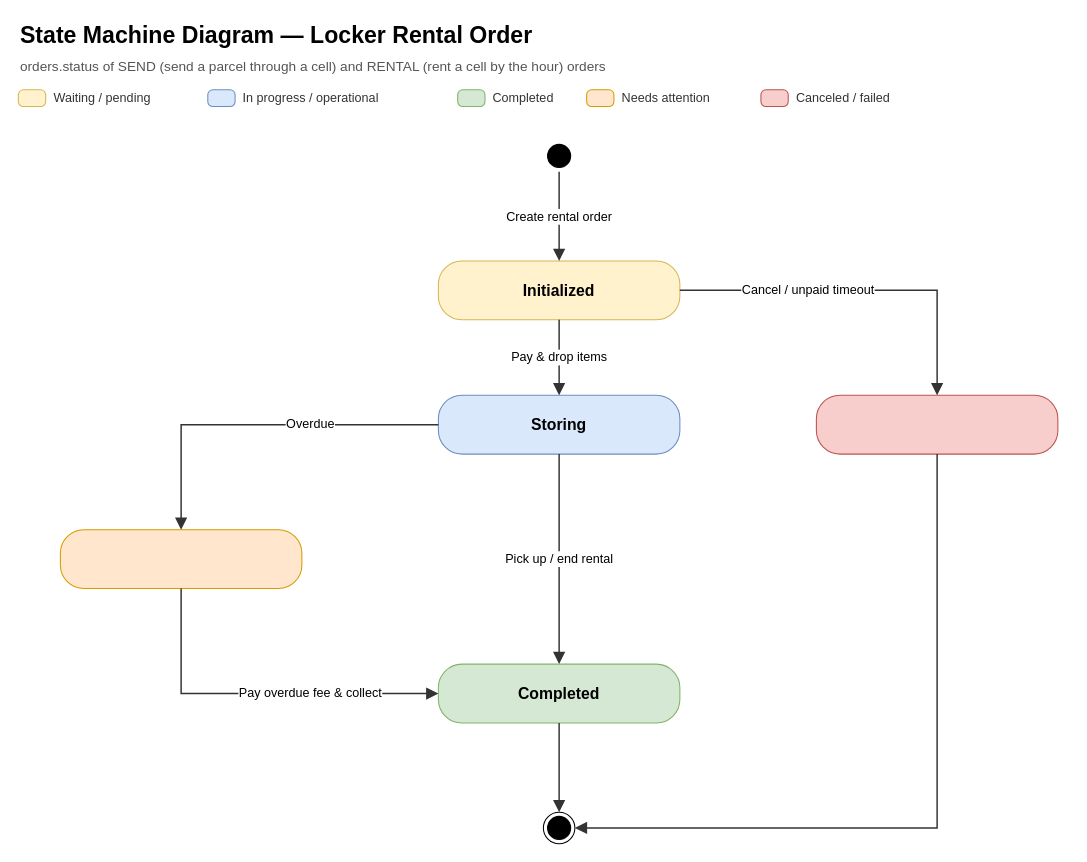
Some shapes in this 1087 by 862 pixel diagram are drawn without their labels. The shapes that lost their labels are listed below. From the top down, each one's centre as x and y in pixels, then its label:
At (x=936, y=424): "Canceled".
At (x=180, y=559): "Expired".
